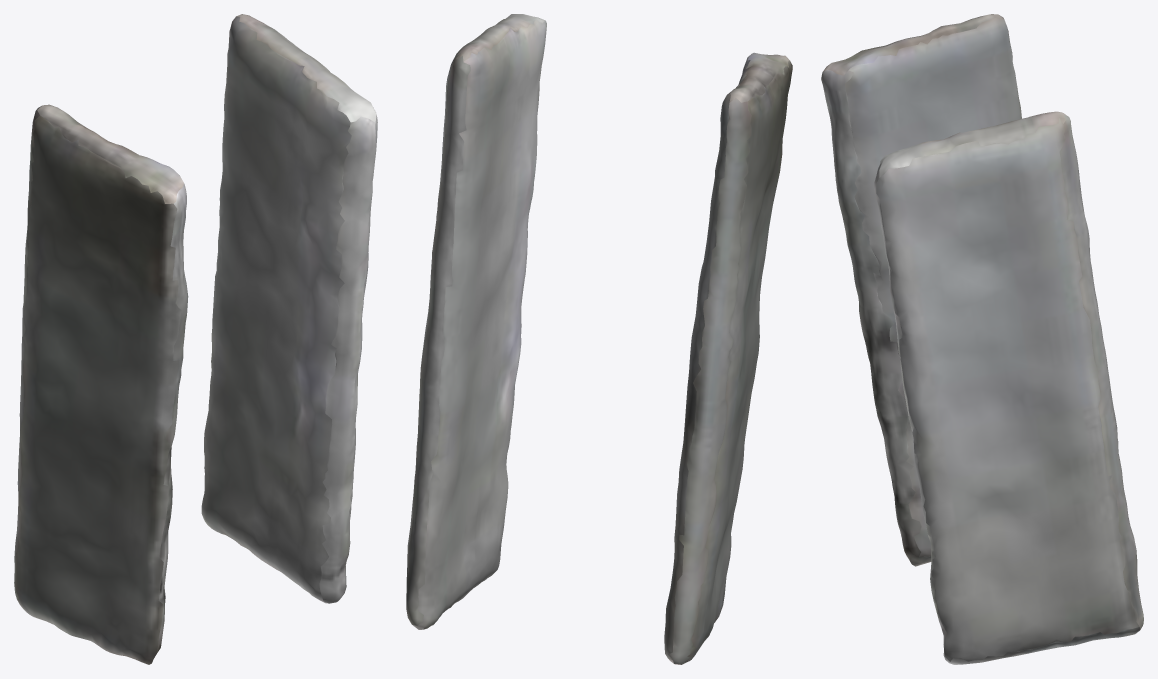
Rendered from 18_curtain.glb.
3 views of the same model, side by side, from view 1: azimuth 30°, elevation 25°; view 2: azimuth 150°, elevation 25°; view 3: azimuth 270°, elevation 25° (orthographic). The views are drawn at different scales.
Visible parts, largest first — view 1: 18_curtain; view 2: 18_curtain; view 3: 18_curtain.
Boxes of the visible parts, x1,y1,x2,y2 form: 18_curtain: (14,14,377,664); 18_curtain: (406,14,792,664); 18_curtain: (821,14,1143,664).
Bounding box in the file's own units: 1.37 × 2.48 × 1.35.
Materials: 1 (1 with a texture image).
